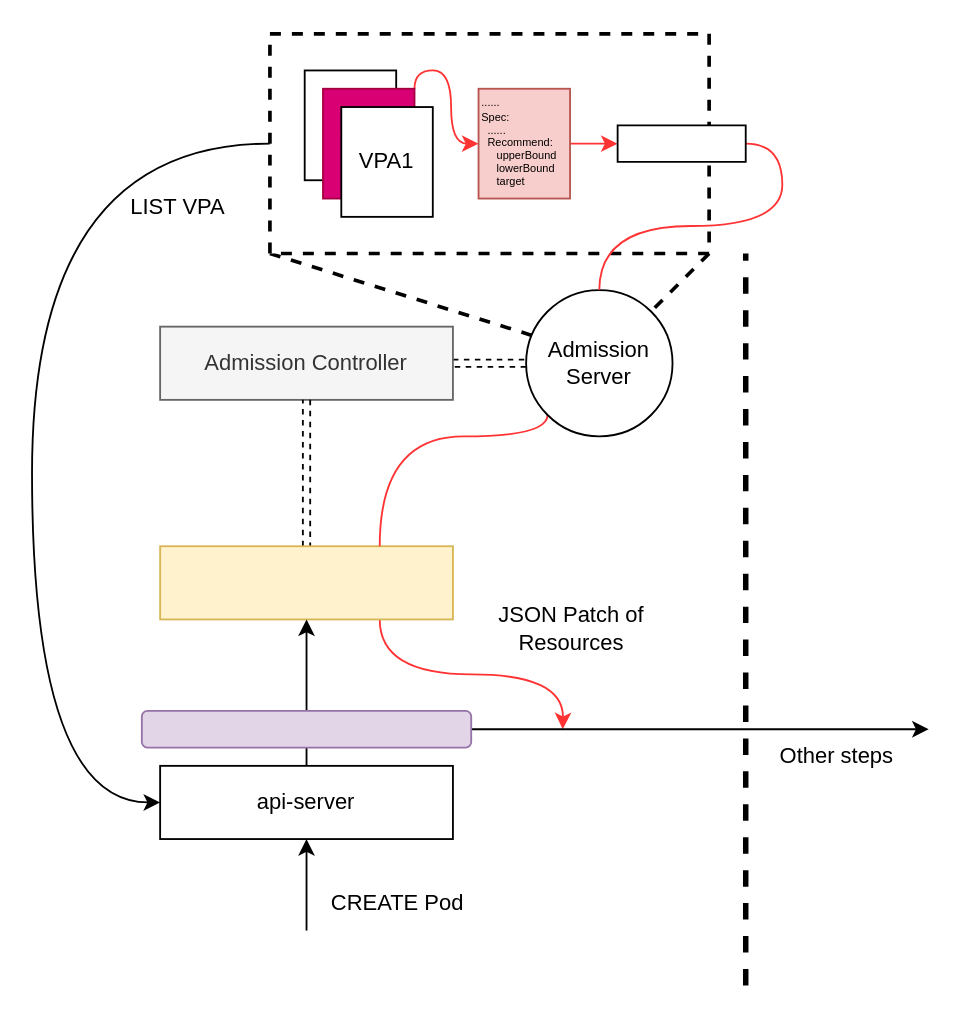
Some shapes in this 975 by 1021 pixel diagram are drawn without their labels. The shapes that lost their labels are listed below. From the top down, each one's centre as x and y in pixels, then its label:
At point 681,143: "To Patches".
At point 305,581: "SVC vpa-webhook".
At point 305,728: "MutatingAdmissionWebhook".
